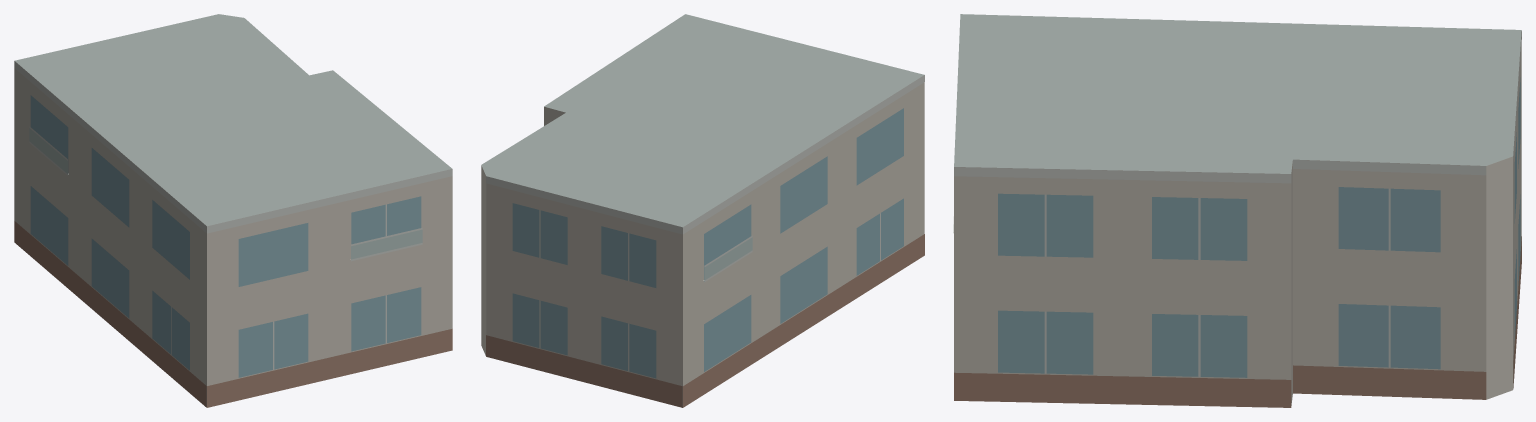
The model's file is survey-upis-33021518.glb.
3 views of the same model, side by side, from view 1: azimuth 30°, elevation 25°; view 2: azimuth 150°, elevation 25°; view 3: azimuth 270°, elevation 25° (orthographic). The views are drawn at different scales.
Visible parts, largest first — view 1: survey-upis-33021518.tmp; view 2: survey-upis-33021518.tmp; view 3: survey-upis-33021518.tmp.
Part boxes in pixels (box(x1,y1,x2,y2)): survey-upis-33021518.tmp: box(14, 14, 452, 407); survey-upis-33021518.tmp: box(481, 14, 924, 407); survey-upis-33021518.tmp: box(953, 14, 1521, 407).
Size of the model in its own units: 8.96 by 6.1 by 13.45.
